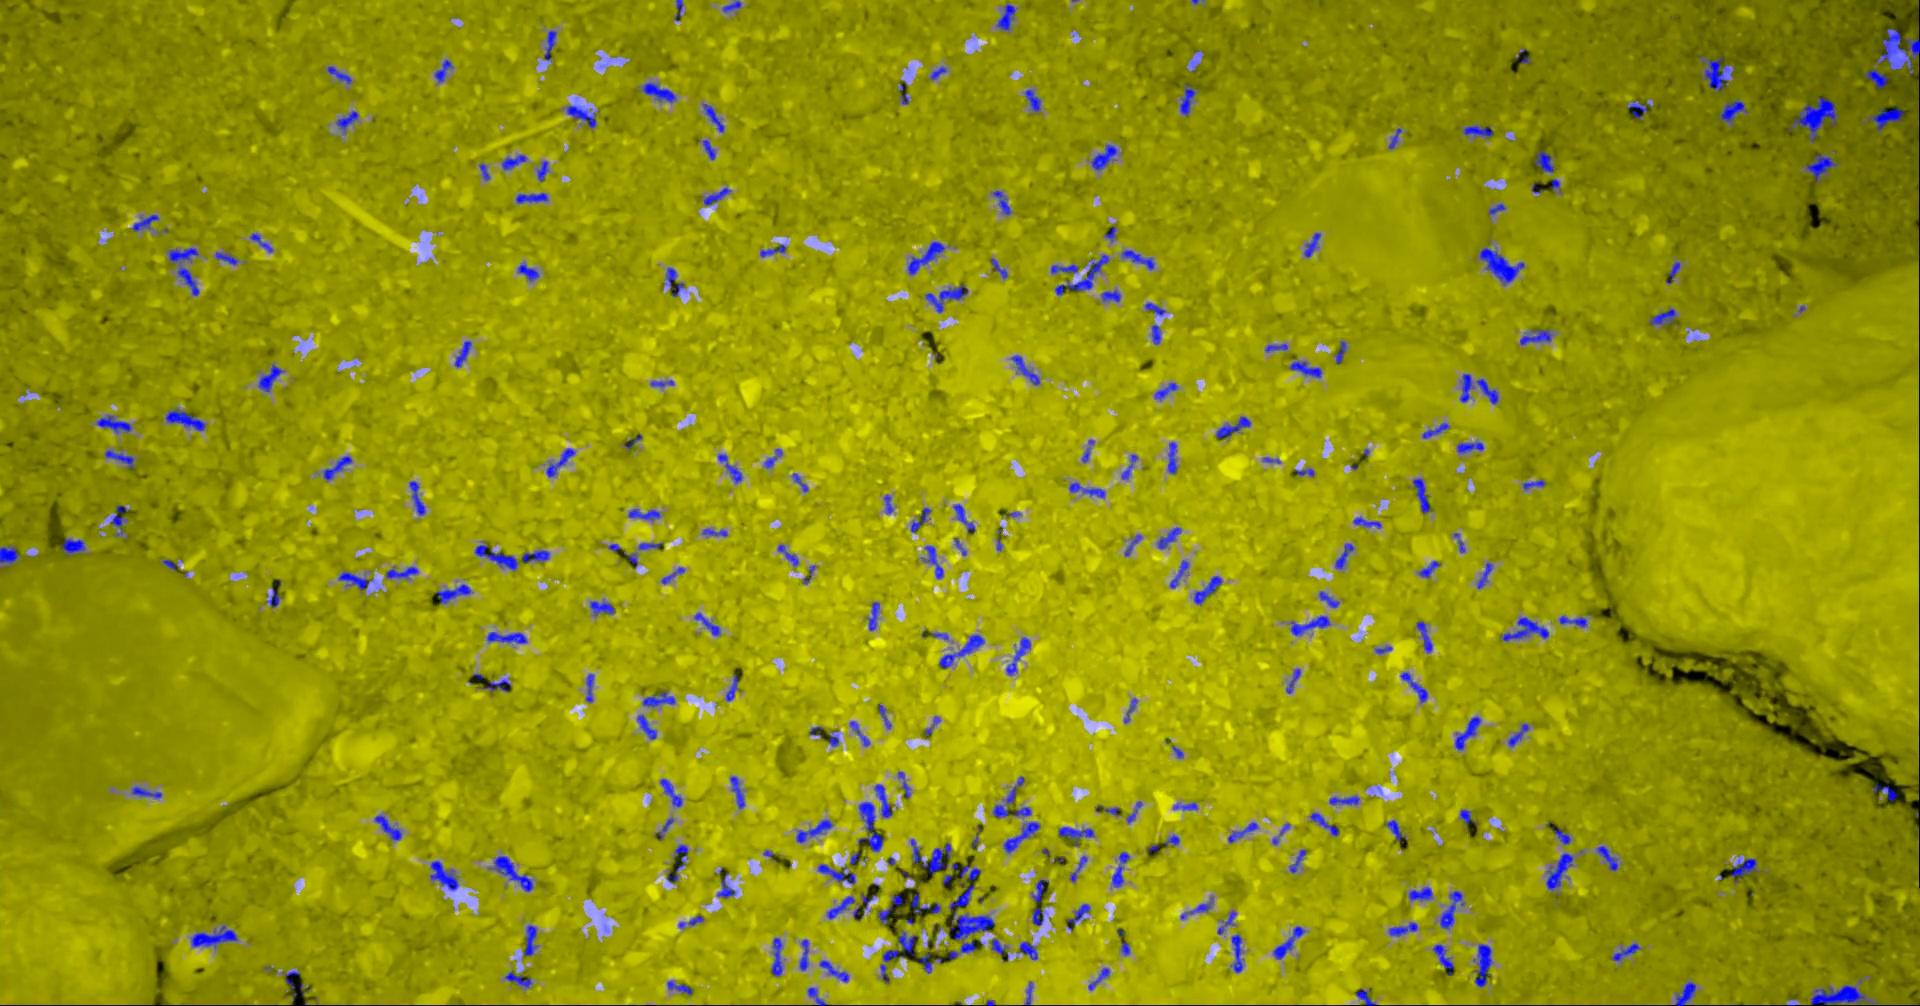ant: (910, 838, 980, 909), (947, 911, 994, 960), (1787, 97, 1837, 141), (1054, 254, 1109, 295), (1876, 27, 1919, 72), (879, 931, 916, 982), (1479, 246, 1524, 285), (488, 855, 532, 890), (168, 246, 199, 295), (938, 634, 984, 667), (992, 776, 1023, 817), (907, 241, 943, 274), (924, 285, 968, 312), (1459, 373, 1498, 404), (858, 801, 883, 851), (474, 544, 518, 570), (1697, 55, 1730, 90), (1810, 984, 1865, 1005), (1003, 821, 1039, 852), (1500, 617, 1548, 640), (190, 925, 237, 948), (1545, 852, 1573, 890), (1272, 926, 1304, 959), (1004, 636, 1030, 674), (1867, 105, 1903, 131), (1439, 890, 1463, 929), (165, 408, 204, 431), (429, 860, 458, 890), (1804, 152, 1836, 180), (1399, 671, 1427, 702), (1454, 716, 1481, 749), (546, 447, 575, 476), (1011, 354, 1039, 384), (1192, 575, 1222, 603), (796, 819, 832, 842), (1290, 615, 1330, 635), (667, 843, 687, 882), (817, 862, 855, 883), (1215, 417, 1250, 438), (1180, 897, 1211, 920), (1474, 942, 1491, 986), (1717, 98, 1746, 122), (717, 453, 742, 483), (877, 894, 902, 923), (825, 895, 855, 920), (1058, 826, 1095, 845), (436, 583, 470, 603), (1091, 144, 1116, 170), (258, 365, 283, 391), (375, 814, 401, 840), (323, 455, 350, 479), (1121, 249, 1154, 269), (923, 545, 943, 578), (641, 83, 676, 102), (1432, 944, 1453, 976), (1730, 857, 1756, 882), (1310, 812, 1338, 835), (1111, 851, 1129, 887), (566, 105, 596, 127), (1227, 822, 1257, 842), (408, 480, 425, 514), (284, 970, 303, 1002), (952, 503, 974, 531), (659, 779, 681, 807), (702, 103, 723, 132), (910, 893, 940, 913), (819, 960, 848, 981), (1412, 478, 1429, 513), (874, 784, 891, 817), (695, 612, 720, 635), (1067, 903, 1090, 929), (97, 415, 131, 432), (1289, 359, 1321, 377), (338, 572, 370, 589), (665, 267, 684, 296), (104, 448, 133, 467), (1170, 559, 1189, 588), (1178, 83, 1195, 116), (1068, 481, 1103, 497), (110, 504, 128, 535), (996, 3, 1015, 30), (335, 111, 358, 133), (1674, 981, 1695, 1005), (1611, 942, 1641, 960), (636, 714, 657, 739), (1596, 845, 1617, 870), (1416, 621, 1432, 652), (1087, 967, 1109, 989), (1157, 527, 1181, 547), (1863, 69, 1888, 88), (1519, 329, 1550, 344), (910, 507, 930, 532), (643, 691, 674, 706), (729, 776, 744, 808), (770, 937, 782, 976), (703, 187, 730, 205), (486, 631, 527, 643), (1507, 723, 1528, 746), (850, 721, 869, 746), (716, 873, 735, 897), (132, 213, 157, 231), (1650, 307, 1675, 325), (60, 537, 85, 555), (1335, 542, 1352, 568), (1872, 782, 1897, 800), (455, 340, 471, 367), (1476, 561, 1492, 588), (1070, 855, 1087, 882), (504, 970, 531, 987), (1533, 150, 1553, 171), (777, 544, 797, 565), (1627, 100, 1650, 119), (249, 232, 272, 251), (654, 817, 673, 840), (1217, 911, 1236, 934), (1230, 934, 1242, 972), (434, 58, 452, 83), (326, 65, 350, 83), (1303, 232, 1321, 257), (1422, 422, 1448, 438), (1388, 922, 1417, 936), (992, 191, 1010, 213), (1289, 848, 1305, 873), (990, 937, 1007, 962), (1121, 453, 1137, 479), (589, 600, 615, 615), (1285, 668, 1300, 694), (1385, 819, 1404, 840), (523, 925, 536, 955), (517, 262, 538, 279), (1124, 533, 1142, 555), (1154, 382, 1177, 399), (627, 508, 660, 520), (385, 567, 418, 578), (662, 567, 684, 583), (1031, 879, 1048, 902), (665, 981, 692, 995), (1463, 124, 1492, 137), (1352, 516, 1382, 528), (502, 154, 526, 169), (516, 192, 547, 203), (1017, 941, 1037, 959), (806, 987, 827, 1005), (1023, 89, 1040, 111), (543, 30, 556, 58), (1559, 615, 1587, 627), (764, 448, 782, 467), (0, 545, 19, 563), (725, 673, 738, 700), (1408, 887, 1432, 901), (990, 258, 1007, 278), (1167, 441, 1177, 474), (1418, 560, 1439, 577), (1318, 591, 1338, 607), (1355, 988, 1375, 1005), (1126, 800, 1142, 822), (759, 244, 785, 257), (897, 771, 909, 796), (678, 915, 703, 927), (1665, 260, 1679, 283), (521, 550, 549, 561), (867, 602, 879, 630), (483, 680, 510, 691), (1123, 699, 1137, 721), (131, 786, 161, 796), (877, 704, 890, 728), (1457, 441, 1483, 452), (215, 251, 237, 264), (799, 939, 808, 970), (265, 587, 279, 606), (1335, 340, 1346, 363), (1330, 795, 1359, 804), (1388, 128, 1401, 149), (702, 138, 715, 159), (536, 160, 549, 180), (1144, 302, 1164, 315), (918, 951, 931, 972), (1459, 809, 1476, 824), (1553, 828, 1570, 843), (1050, 264, 1078, 273), (1523, 479, 1545, 489), (723, 0, 742, 11), (1101, 290, 1120, 301), (1031, 906, 1043, 925), (1173, 801, 1197, 810), (585, 673, 593, 701), (930, 66, 946, 79), (1150, 324, 1161, 344), (650, 379, 673, 387), (883, 494, 893, 513), (702, 528, 728, 536), (899, 83, 908, 104), (1263, 343, 1288, 351), (1487, 203, 1505, 213), (637, 542, 662, 549), (1013, 807, 1030, 815)
